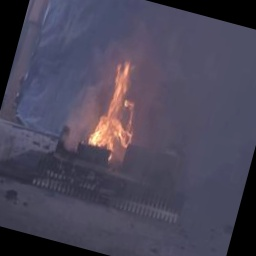fire: (82, 50, 151, 165)
